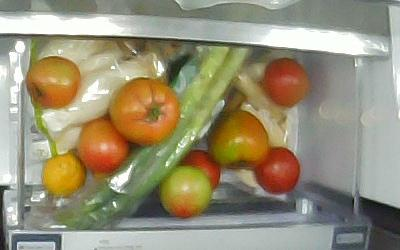tangerine: (40, 150, 86, 196)
tomato: (106, 75, 180, 144), (206, 108, 269, 170), (24, 54, 81, 108), (76, 116, 129, 172), (157, 163, 210, 217), (261, 56, 310, 106), (253, 146, 300, 194), (179, 150, 220, 192)
